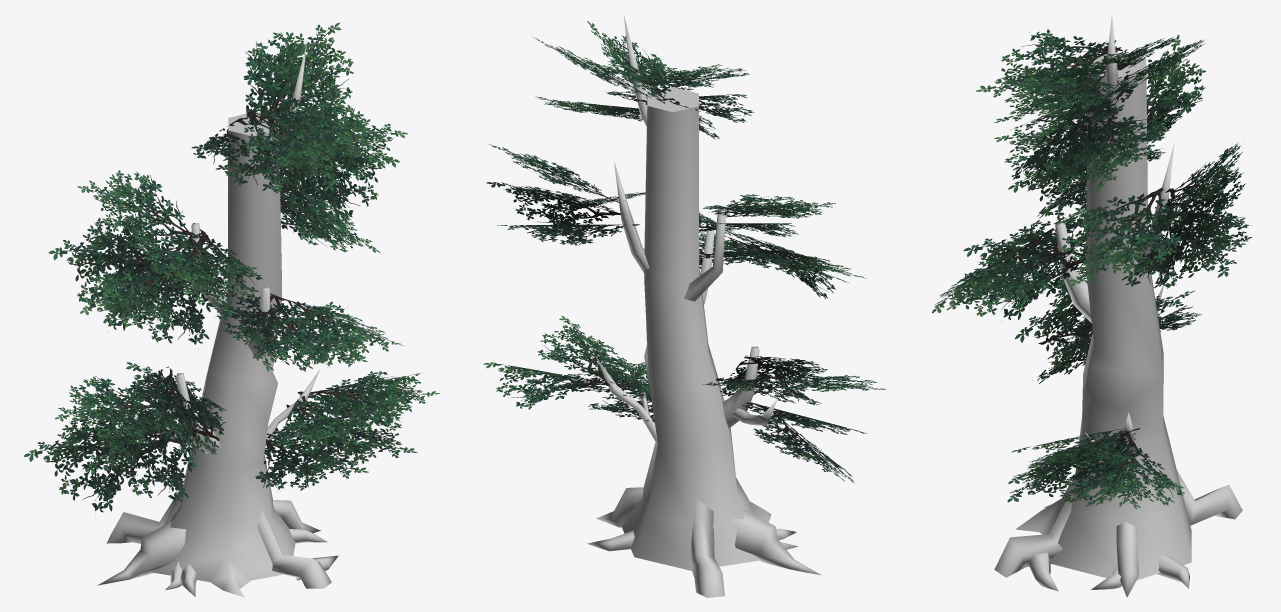
The model's file is yw_wanjiegu_dashu01.FBX.
The picture shows the model from 3 angles, left to right: view 1: azimuth 30°, elevation 25°; view 2: azimuth 150°, elevation 25°; view 3: azimuth 270°, elevation 25°; orthographic projection. The views are drawn at different scales.
Parts seen in each view (by area): view 1: yw_wanjiegu_dashu01; view 2: yw_wanjiegu_dashu01; view 3: yw_wanjiegu_dashu01.
Boxes of the visible parts, x1,y1,x2,y2 form: yw_wanjiegu_dashu01: [24, 22, 439, 597]; yw_wanjiegu_dashu01: [483, 15, 886, 597]; yw_wanjiegu_dashu01: [932, 15, 1251, 597].
Bounding box in the file's own units: 792 × 956 × 516.
